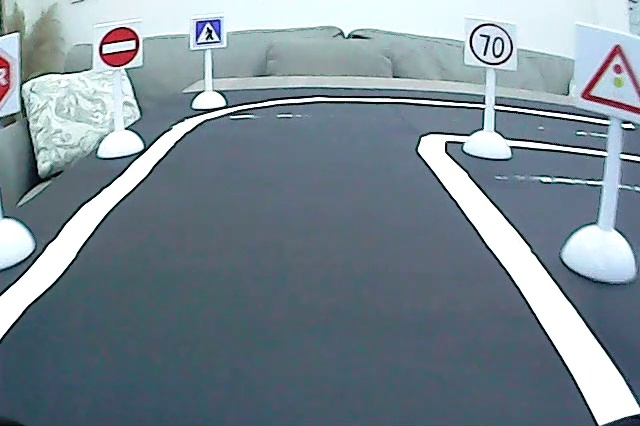do not enter: (97, 24, 142, 70)
pedestrian crossing: (192, 18, 224, 49)
red light: (576, 34, 640, 116)
speed limit 70: (467, 20, 515, 69)
